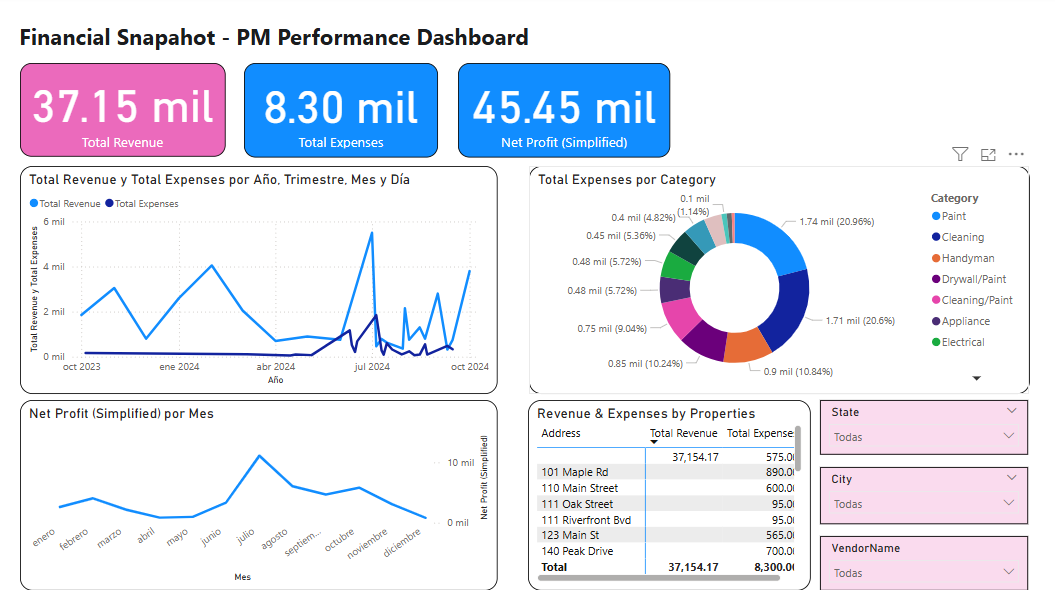

Layout of this report page (visuals, bound fields, positions):
{"tool":"powerbi","page":{"name":"Financial Snapshot","canvas":[1280,720],"ordinal":4},"visuals":[{"type":"textbox","box":[21.2,25.2,885.6,50.5],"z":0},{"type":"card","fields":{"Values":["FinancialEntries.Total Expenses"]},"box":[297.5,81.2,233.8,113.8],"z":1000},{"type":"card","fields":{"Values":["FinancialEntries.Net Profit (Simplified)"]},"box":[556.2,81.2,256.2,113.8],"z":2000},{"type":"card","fields":{"Values":["FinancialEntries.Total Revenue"]},"box":[27.5,81.2,247.5,112.5],"z":3000},{"type":"lineChart","fields":{"Y":["FinancialEntries.Total Revenue","FinancialEntries.Total Expenses"],"Category":["FinancialEntries.TransactionDat.Variación.Jerarquía de fechas.Año","FinancialEntries.TransactionDat.Variación.Jerarquía de fechas.Trimestre","FinancialEntries.TransactionDat.Variación.Jerarquía de fechas.Mes","FinancialEntries.TransactionDat.Variación.Jerarquía de fechas.Día"]},"box":[27.5,205,576.2,275],"z":4000},{"type":"lineChart","fields":{"Y2":["FinancialEntries.Net Profit (Simplified)"],"Category":["FinancialEntries.TransactionDat.Variación.Jerarquía de fechas.Mes"]},"box":[27.5,487.5,576.2,230],"z":5000},{"type":"donutChart","fields":{"Y":["FinancialEntries.Total Expenses"],"Category":["WorkOrders.Category"]},"box":[641.2,205,603.8,275],"z":6000},{"type":"pivotTable","title":"Revenue & Expenses by Properties","fields":{"Rows":["Properties.Address"],"Values":["FinancialEntries.Total Revenue","FinancialEntries.Total Expenses"]},"box":[640,487.5,341.2,230],"z":7000},{"type":"slicer","fields":{"Values":["Properties.City"]},"box":[992.8,567.5,251.2,68.8],"z":8000},{"type":"slicer","fields":{"Values":["Vendors.VendorName"]},"box":[992.8,651.2,251.2,66.2],"z":9000},{"type":"slicer","fields":{"Values":["Properties.State"]},"box":[992.8,487.5,251.2,66.2],"z":10000}]}

Visuals, with their boxes in screenshot pixels (x1, y1, x2, y2), scaled from the page's 1280x720 canvas onto the 1055x590 screenshot:
textbox: 17/21/747/62
card - FinancialEntries.Total Expenses: 245/67/438/160
card - FinancialEntries.Net Profit (Simplified): 458/67/670/160
card - FinancialEntries.Total Revenue: 23/67/227/159
lineChart - FinancialEntries.Total Revenue x FinancialEntries.Total Expenses: 23/168/498/393
lineChart - FinancialEntries.Net Profit (Simplified) x FinancialEntries.TransactionDat.Variación.Jerarquía de fechas.Mes: 23/399/498/588
donutChart - FinancialEntries.Total Expenses x WorkOrders.Category: 528/168/1026/393
"Revenue & Expenses by Properties" pivotTable: 528/399/809/588
slicer - Properties.City: 818/465/1025/521
slicer - Vendors.VendorName: 818/534/1025/588
slicer - Properties.State: 818/399/1025/454
